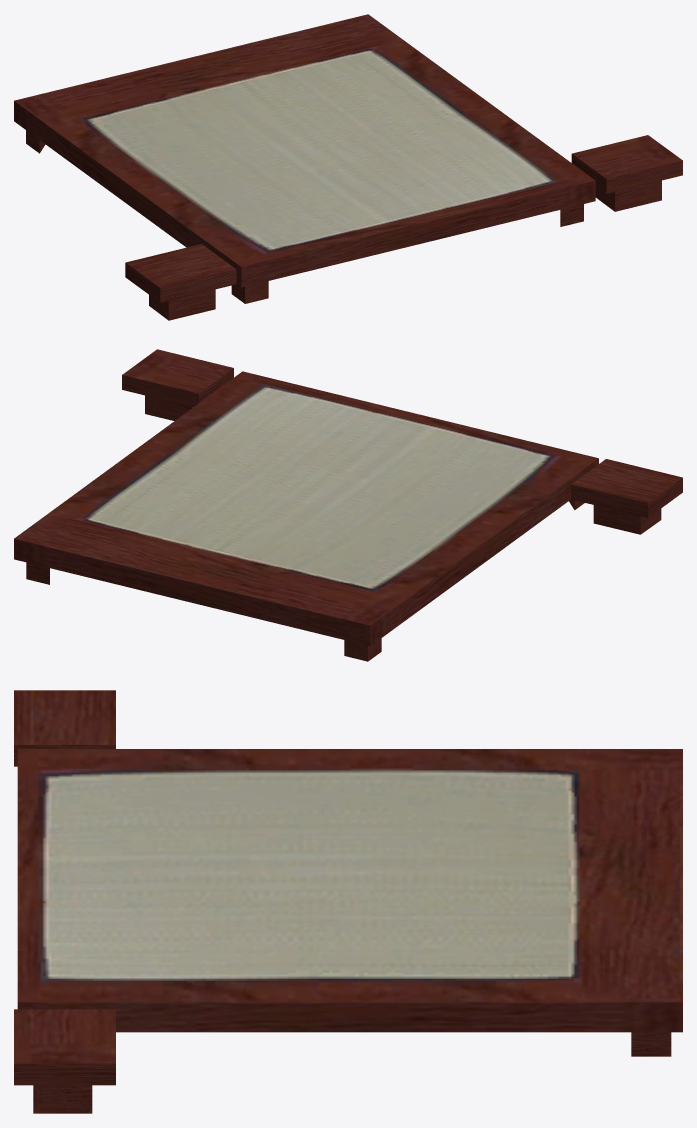
Rendered from it_tatami01.fbx.
The picture shows the model from 3 angles, top to bottom: view 1: azimuth 30°, elevation 25°; view 2: azimuth 150°, elevation 25°; view 3: azimuth 270°, elevation 25°; orthographic projection. The views are drawn at different scales.
Parts seen in each view (by area): view 1: mesh_0; view 2: mesh_0; view 3: mesh_0.
Part boxes in pixels (x1=…): mesh_0: x1=14, y1=14, x2=682, y2=320; mesh_0: x1=14, y1=349, x2=682, y2=661; mesh_0: x1=14, y1=690, x2=682, y2=1113.
Size of the model in its own units: 266 by 20 by 201.
Materials: 1 (1 with a texture image).
